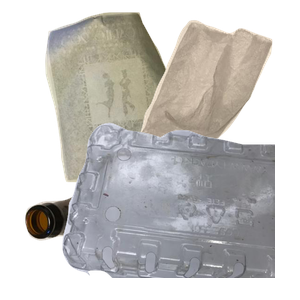glass: (23, 179, 183, 300)
paper: (43, 10, 221, 185)
plastic: (60, 120, 300, 300)
trash: (132, 17, 300, 177)
